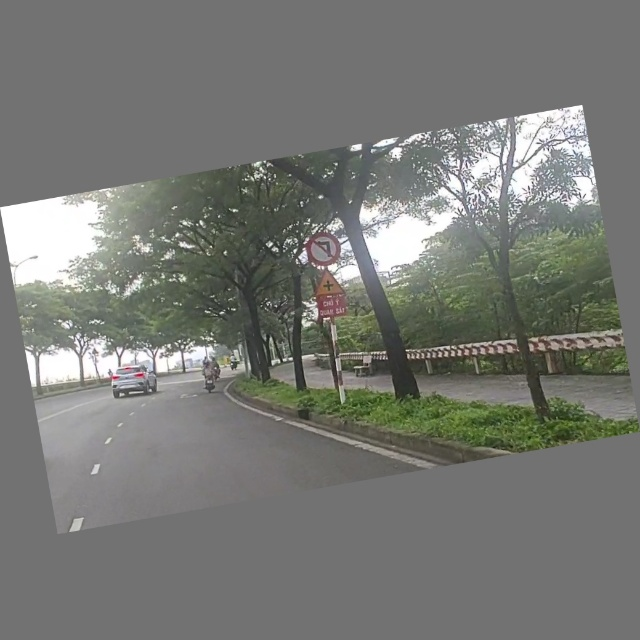P.123a: (298, 226, 346, 272)
W.205a: (308, 265, 350, 300)
